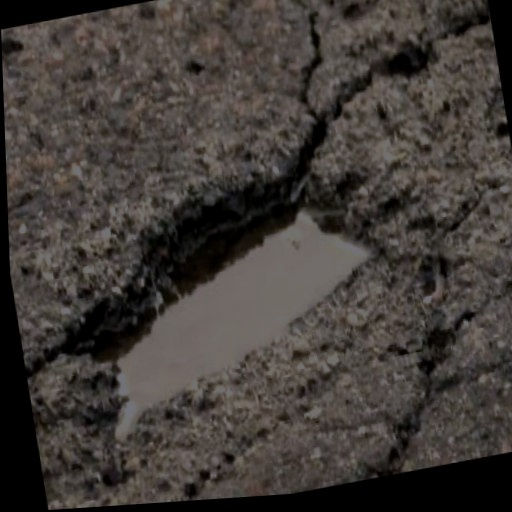pothole: (22, 141, 419, 464)
